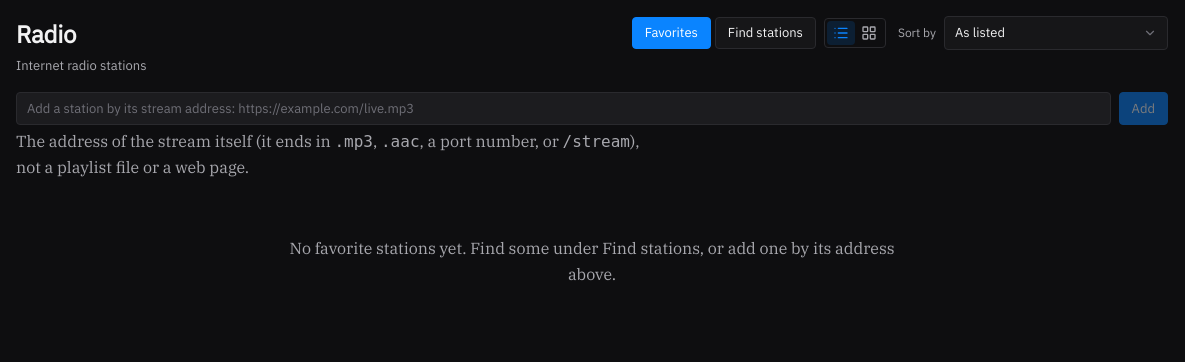
Radio view › Find stations lists results, saves one as a favorite, and cannot play an HLS station
Click the tab with test id "tab-browse".
click(765, 33)  # box x1=715 y1=17 x2=816 y2=48
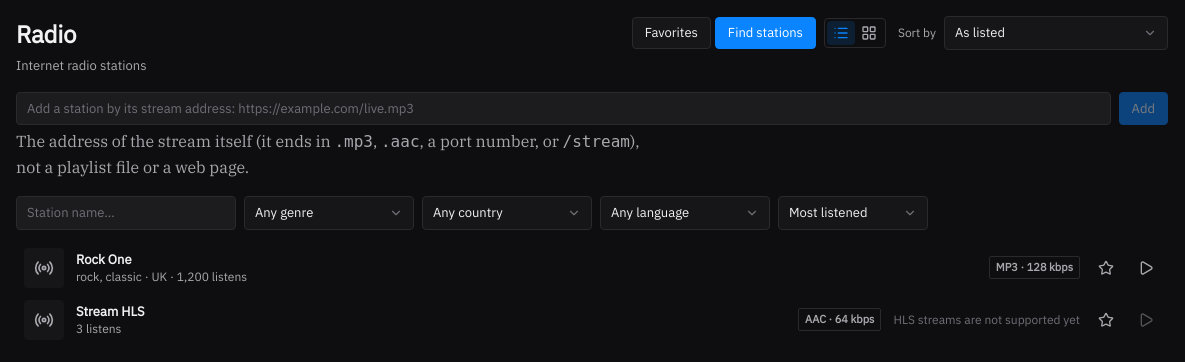
Check: the number of list items with test id "station-row" is 2, box x1=16 y1=242 x2=1168 y2=294; x1=16 y1=294 x2=1168 y2=346
Check: the list item with test id "station-row" shows "1,200 listens", box x1=76 y1=269 x2=247 y2=284
Check: the text with test id "station-unplayable" shows "HLS", box x1=894 y1=312 x2=1080 y2=327
Click the button with test id "favorite-station".
click(1106, 268)  # box x1=1092 y1=256 x2=1120 y2=280
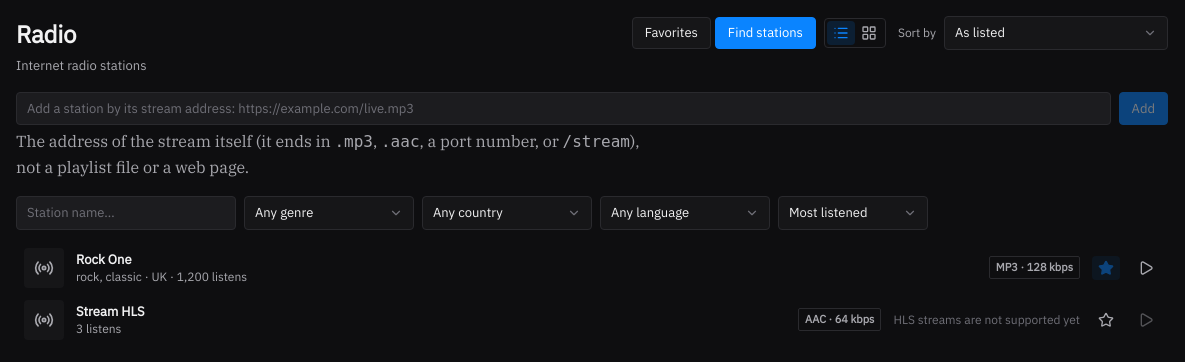
Check: the button with test id "favorite-station" is disabled, box x1=1092 y1=256 x2=1120 y2=280
